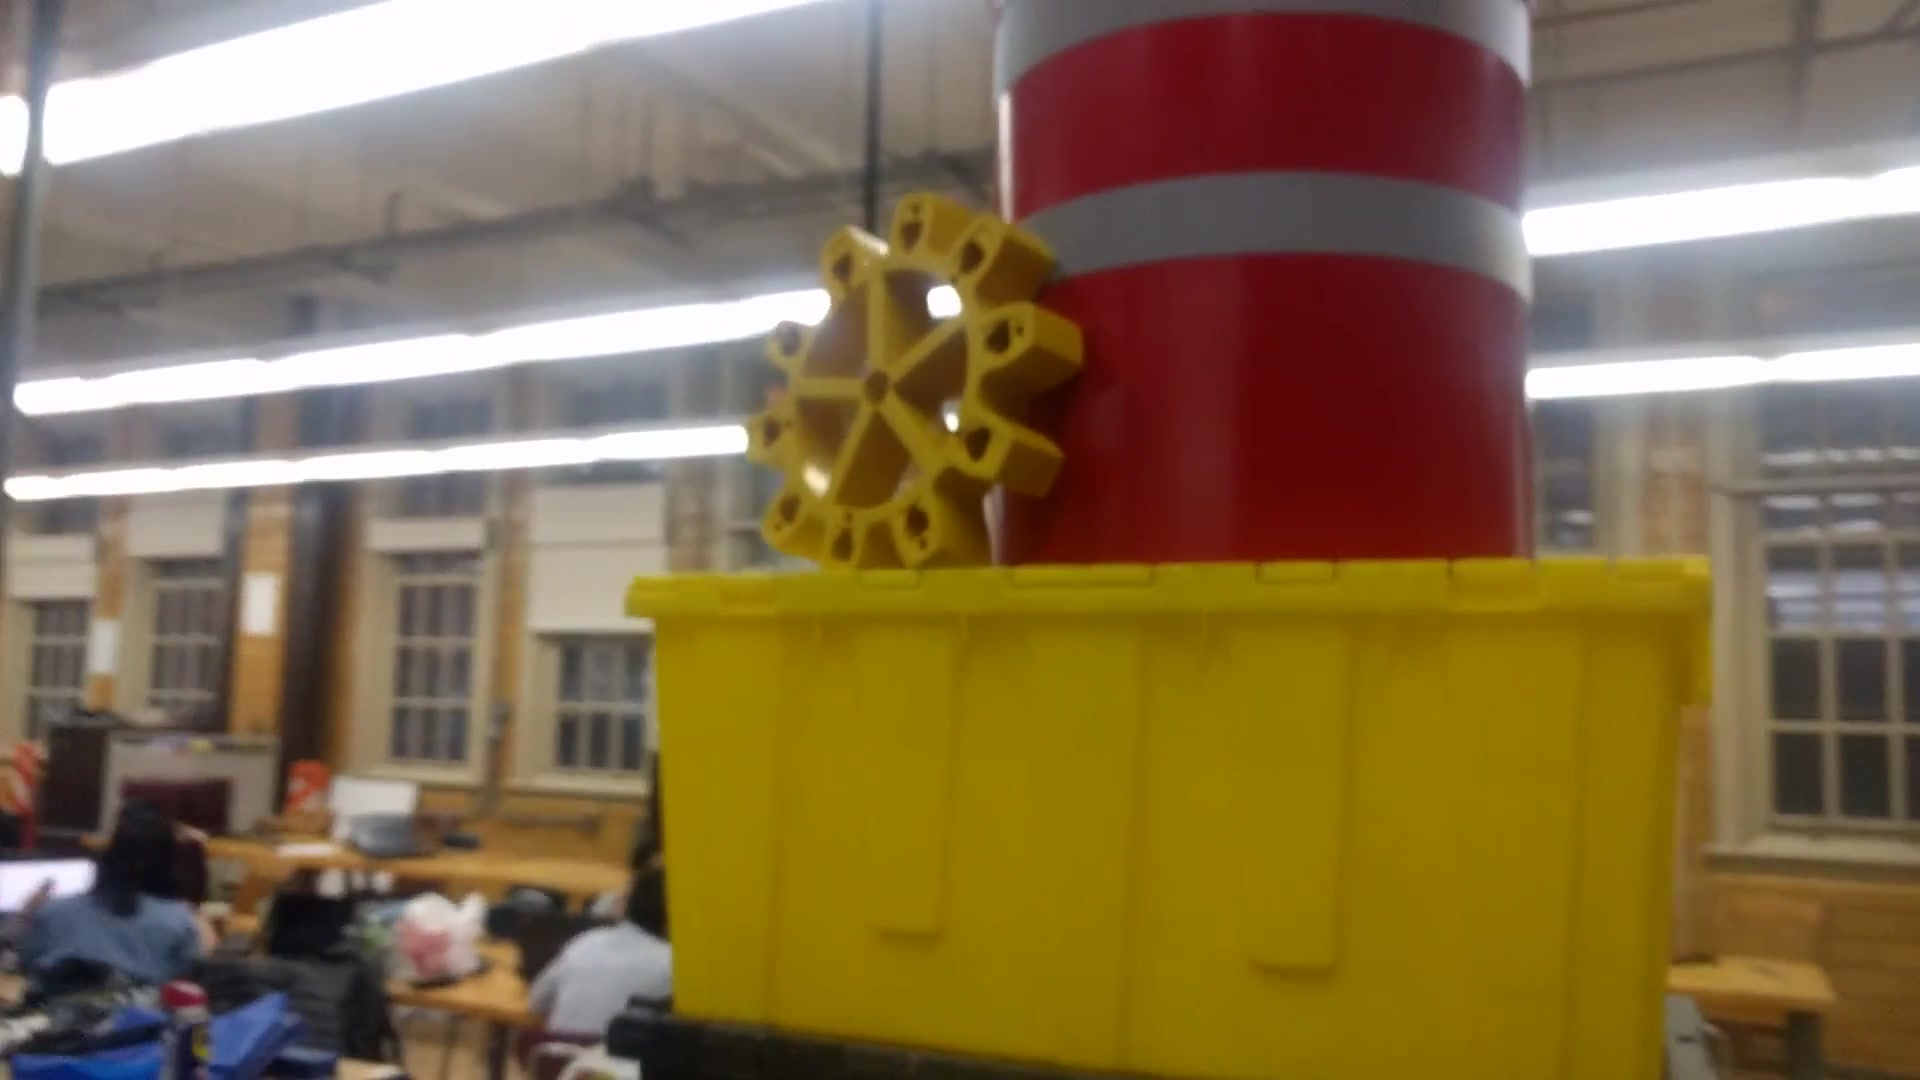gear: (753, 186, 1055, 622)
